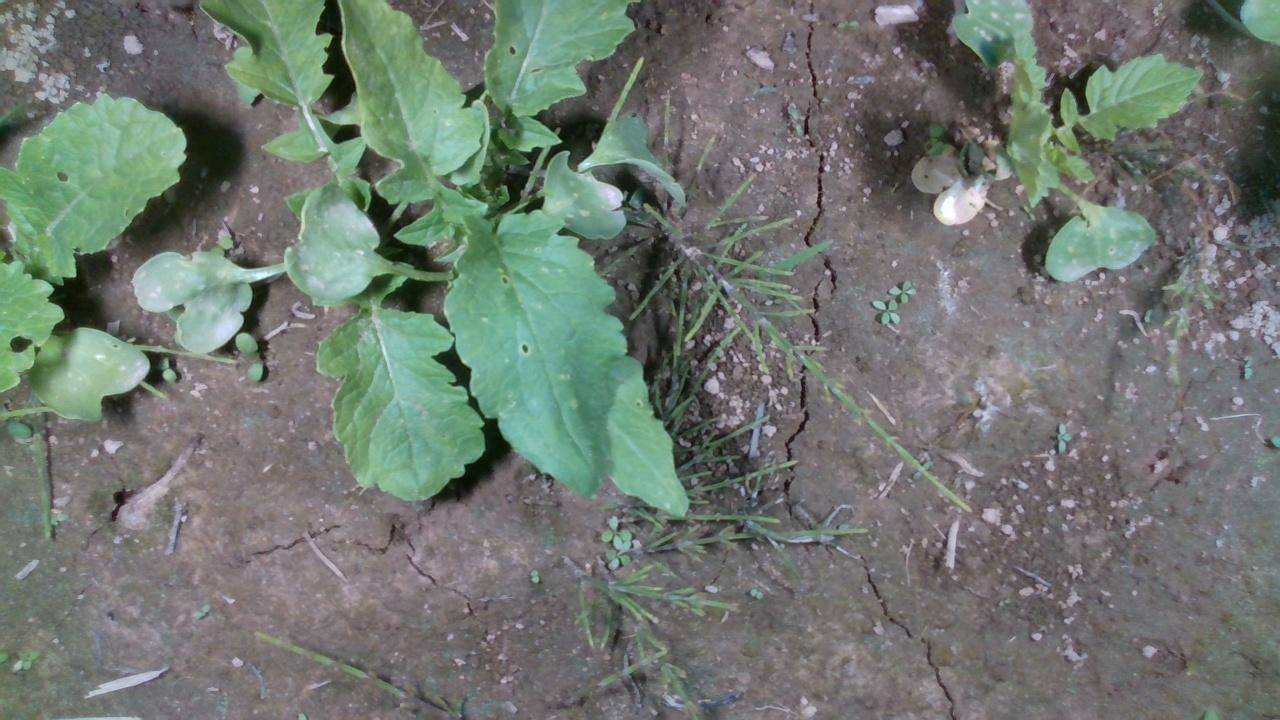weed: (12, 646, 42, 670), (1054, 420, 1072, 456), (190, 601, 210, 621), (831, 18, 862, 30), (527, 567, 540, 585)
